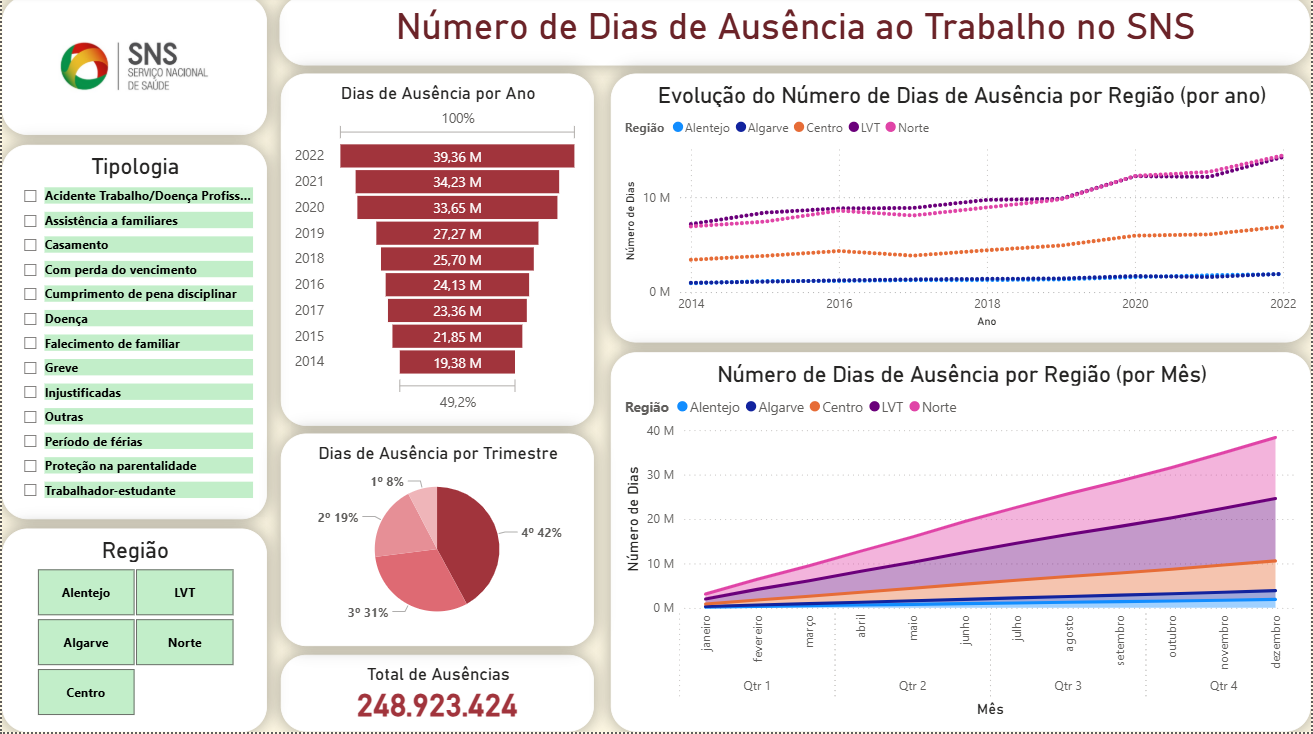

The dashboard page shown, as its layout file describes it:
{"tool":"powerbi","page":{"name":"Dashboard_EvoluçãoAusências","canvas":[1280,720],"ordinal":0},"visuals":[{"type":"card","title":"Total de Ausências","fields":{"Values":["Sum(FactNumDiasAusência.NúmDiasAusência)"]},"box":[272.2,644.4,306.7,75.6],"z":0},{"type":"textbox","title":"Número de Dias de Ausência ao Trabalho no SNS","box":[272,0,1008,68],"z":1000},{"type":"funnel","title":"Dias de Ausência por Ano","fields":{"Y":["Sum(FactNumDiasAusência.NúmDiasAusência)"],"Category":["DimTempo.Ano"]},"box":[272.2,75.6,306.7,344.4],"z":2000},{"type":"image","box":[0,0,259,136],"z":3000},{"type":"lineChart","title":"Evolução do Número de Dias de Ausência por Região (por ano)","fields":{"Y":["Sum(FactNumDiasAusência.NúmDiasAusência)"],"Series":["DimRegião.Região"],"Category":["DimTempo.Ano"]},"box":[595,76,685,263],"z":4000},{"type":"slicer","title":"Tipologia","fields":{"Values":["DimTipologiaAusência.TipologiaAusência"]},"box":[0,145.4,259.2,366.3],"z":5000},{"type":"stackedAreaChart","title":"Número de Dias de Ausência por Região (por Mês)","fields":{"Category":["DimTempo.Data.Variação.Hierarquia de Datas.Trimestre","DimTempo.Data.Variação.Hierarquia de Datas.Mês"],"Y":["Sum(FactNumDiasAusência.NúmDiasAusência)"],"Series":["DimRegião.Região"]},"box":[595,349,685,371],"z":6000},{"type":"pieChart","title":"Dias de Ausência por Trimestre","fields":{"Y":["Sum(FactNumDiasAusência.NúmDiasAusência)"],"Category":["DimTempo.TrimestreNúmero"]},"box":[272.2,427.8,306.7,207.8],"z":7000},{"type":"slicer","title":"Região","fields":{"Values":["DimRegião.Região"]},"box":[0,521.1,258.9,198.9],"z":8000}]}

Visuals, with their boxes in screenshot pixels (x1, y1, x2, y2), scaled from the page's 1280x720 canvas onto the 1313x734 screenshot:
"Total de Ausências" card: l=279, t=657, r=594, b=733
"Número de Dias de Ausência ao Trabalho no SNS" textbox: l=279, t=0, r=1312, b=69
"Dias de Ausência por Ano" funnel: l=279, t=77, r=594, b=428
image: l=0, t=0, r=266, b=139
"Evolução do Número de Dias de Ausência por Região (por ano)" lineChart: l=610, t=77, r=1312, b=346
"Tipologia" slicer: l=0, t=148, r=266, b=522
"Número de Dias de Ausência por Região (por Mês)" stackedAreaChart: l=610, t=356, r=1312, b=733
"Dias de Ausência por Trimestre" pieChart: l=279, t=436, r=594, b=648
"Região" slicer: l=0, t=531, r=266, b=733
